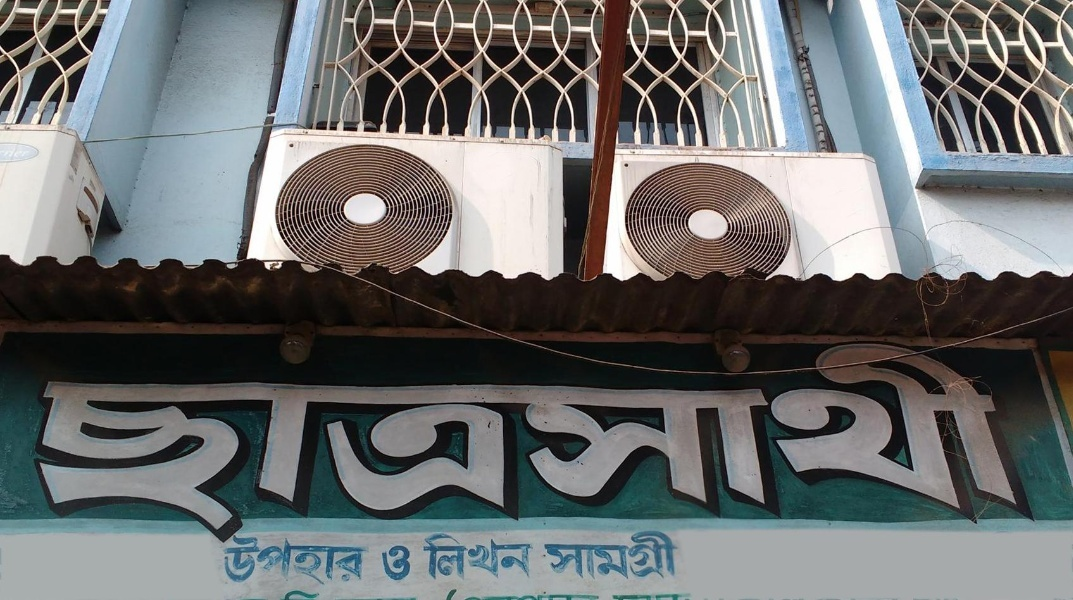text: (49, 338, 64, 544), (65, 338, 80, 544), (81, 338, 96, 544), (97, 338, 112, 544), (113, 338, 128, 544), (129, 338, 144, 544), (145, 338, 160, 544), (161, 338, 176, 544), (177, 338, 192, 544), (193, 338, 208, 544), (209, 338, 224, 544), (225, 338, 240, 544), (241, 338, 256, 544), (257, 338, 272, 544), (273, 338, 288, 544), (289, 338, 304, 544), (305, 338, 320, 544), (321, 338, 336, 544), (337, 338, 352, 544), (353, 338, 368, 544), (369, 338, 384, 544), (385, 338, 400, 544), (401, 338, 416, 544), (417, 338, 432, 544), (433, 338, 448, 544), (449, 338, 464, 544), (465, 338, 480, 544), (481, 338, 496, 544), (497, 338, 512, 544), (513, 338, 528, 544), (529, 338, 544, 544), (545, 338, 560, 544), (561, 338, 576, 544), (577, 338, 592, 544), (593, 338, 608, 544), (609, 338, 624, 544), (625, 338, 640, 544), (641, 338, 656, 544), (657, 338, 672, 544), (673, 338, 688, 544), (689, 338, 704, 544), (705, 338, 720, 544), (721, 338, 736, 544), (737, 338, 752, 544), (753, 338, 768, 544), (769, 338, 784, 544), (785, 338, 800, 544), (801, 338, 816, 544), (817, 338, 832, 544), (833, 338, 848, 544), (849, 338, 864, 544), (865, 338, 880, 544), (881, 338, 896, 544), (897, 338, 912, 544), (913, 338, 928, 544), (929, 338, 944, 544), (945, 338, 960, 544), (961, 338, 976, 544), (977, 338, 992, 544), (993, 338, 1008, 544), (1009, 338, 1024, 544), (1025, 338, 1037, 544), (353, 533, 369, 586), (241, 533, 256, 586), (257, 533, 272, 586), (273, 533, 288, 586), (289, 533, 304, 586), (305, 533, 320, 586), (321, 533, 336, 586), (337, 533, 352, 586), (545, 531, 560, 582), (561, 531, 576, 582), (577, 531, 592, 582), (593, 531, 608, 582), (609, 531, 624, 582), (625, 531, 640, 582), (641, 531, 656, 582), (657, 531, 672, 582), (433, 532, 448, 581), (449, 532, 464, 581), (465, 532, 480, 581), (481, 532, 496, 581), (497, 532, 512, 581), (513, 532, 528, 581), (385, 545, 400, 581), (230, 533, 240, 586), (423, 532, 432, 581), (401, 545, 412, 581), (673, 531, 679, 582), (47, 338, 48, 544), (529, 532, 533, 581), (289, 588, 304, 600), (305, 588, 320, 600), (449, 590, 464, 600), (465, 590, 480, 600), (481, 590, 496, 600), (497, 590, 512, 600), (513, 590, 528, 600), (529, 590, 544, 600), (545, 590, 560, 600), (561, 590, 576, 600), (577, 590, 592, 600), (593, 590, 608, 600), (625, 590, 640, 600), (641, 590, 656, 600), (657, 590, 672, 600), (673, 590, 688, 600), (613, 590, 624, 600), (382, 545, 384, 581), (283, 588, 288, 600), (689, 590, 695, 600), (321, 588, 322, 600)
